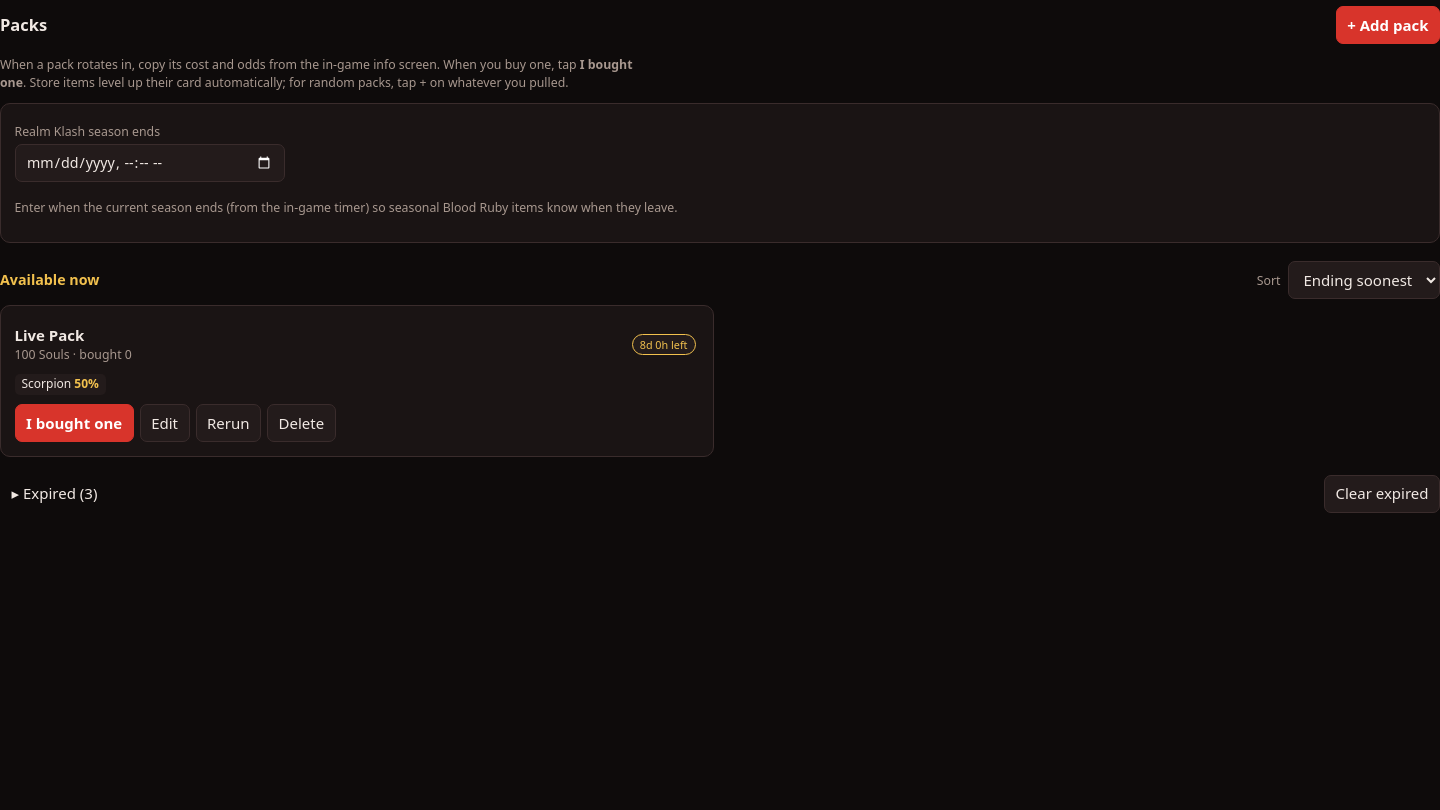
Test case: Packs: taps on a screen a sync has changed › doesn't bring back a pack a sync deleted while its editor was open
Click the button "Edit": (165, 423) left=140, top=404, right=190, bottom=442
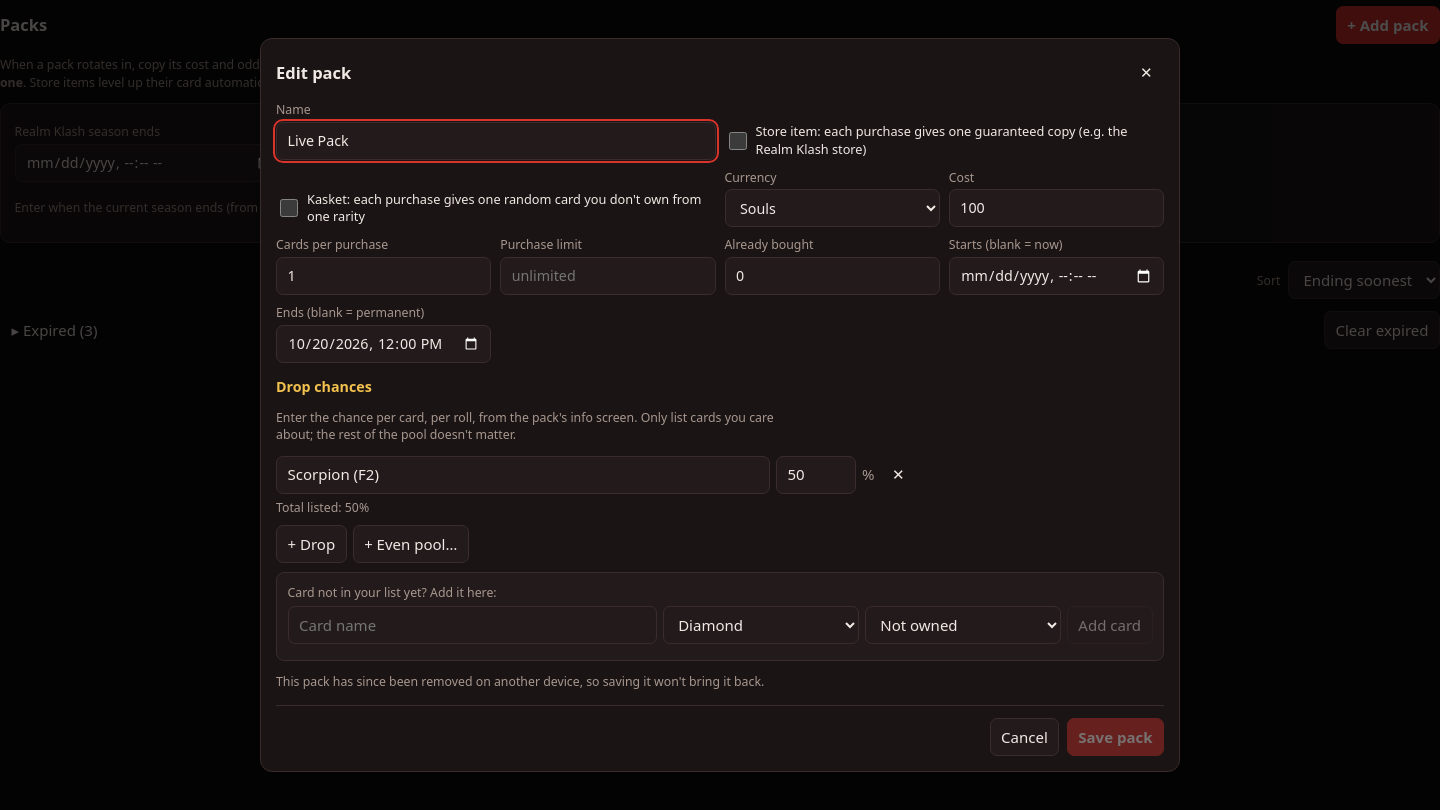
expect the heading "Edit pack" is shown: met, box left=276, top=61, right=351, bottom=84
